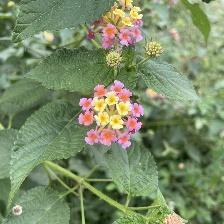common lanthana: (80, 82, 144, 153)
